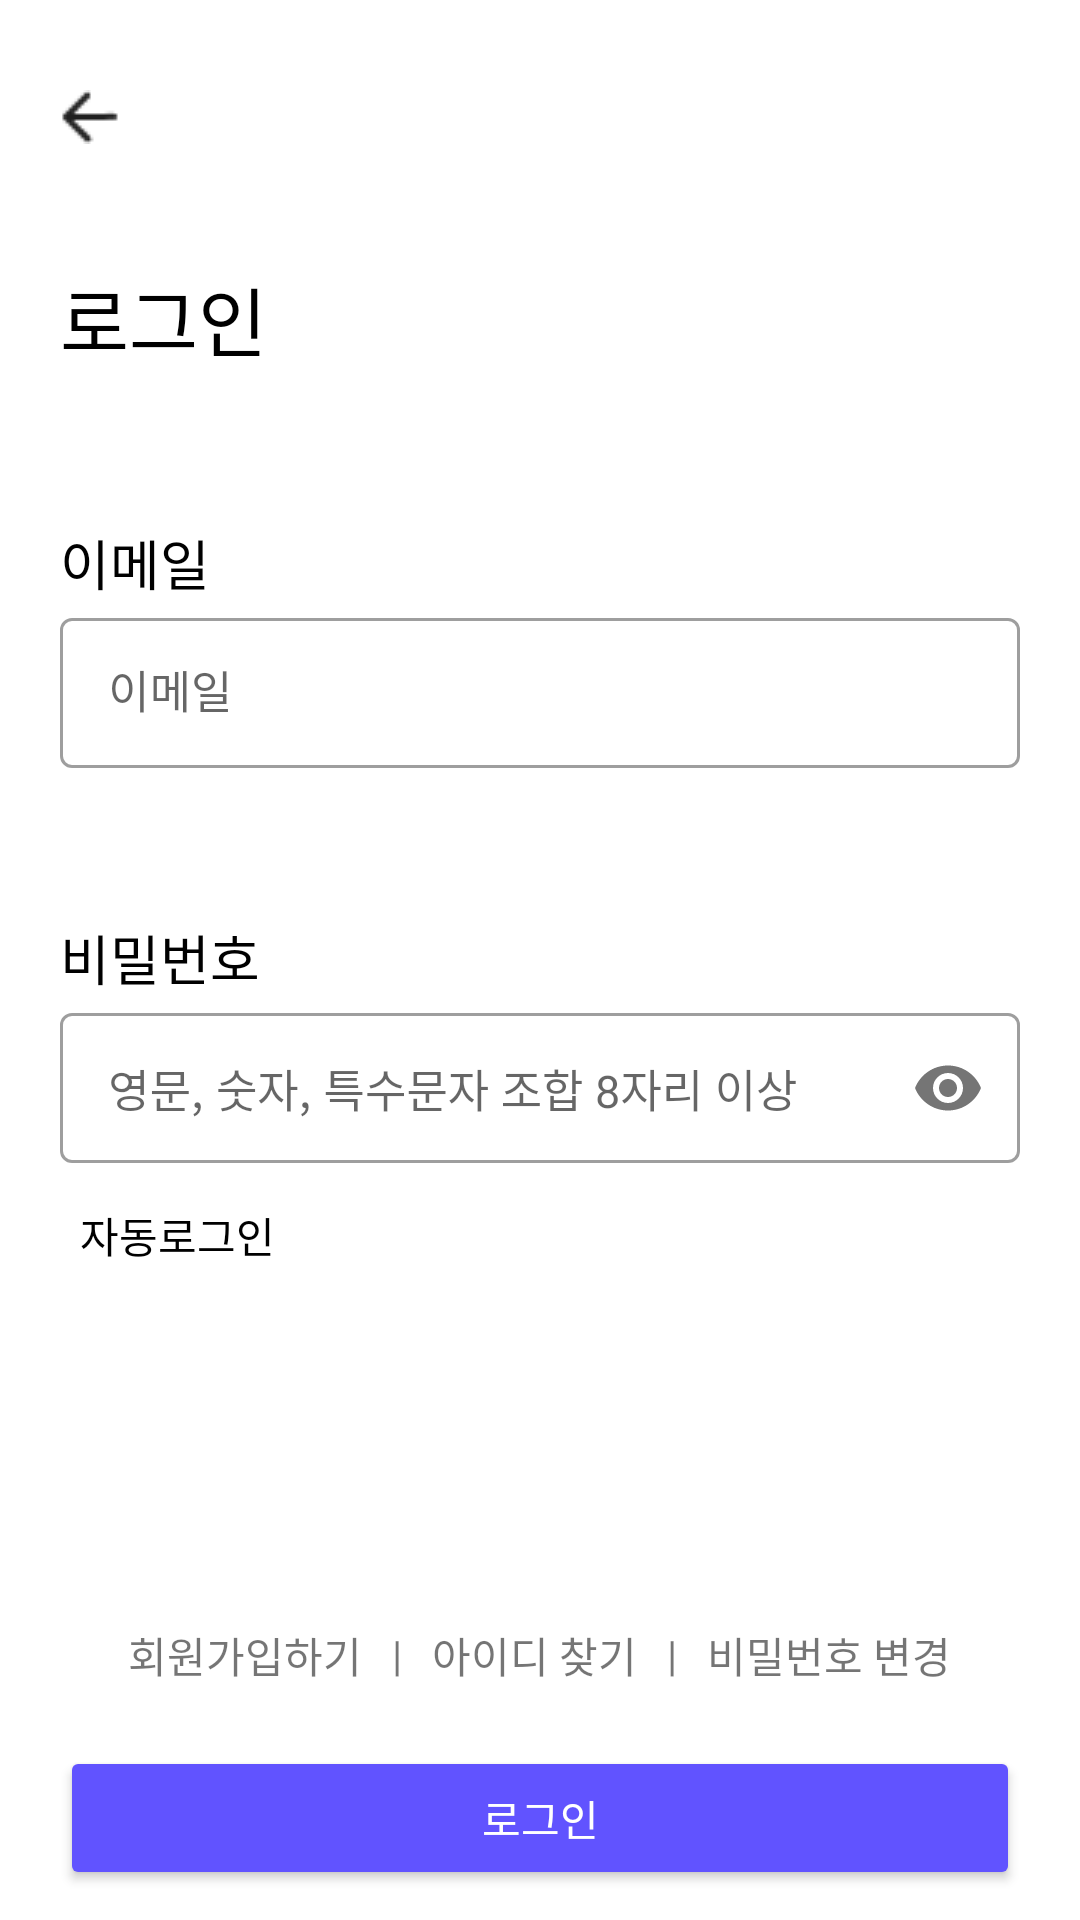

Icon bounding boxes for this 1080w x 1920h phone screenshot, format (x1, y1, x2, y2):
backward: (62, 90, 118, 144)
